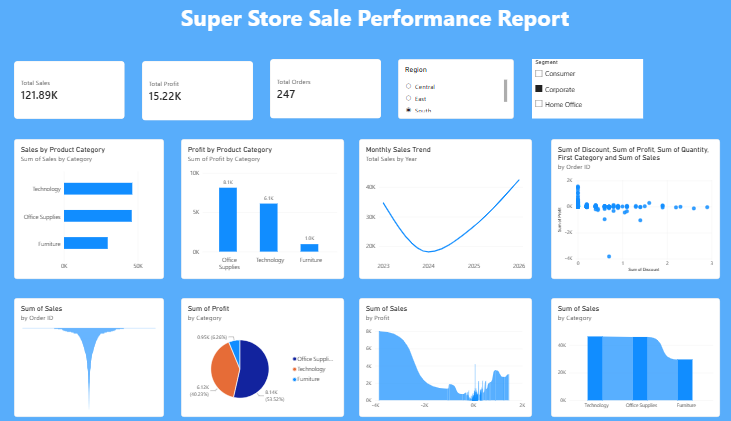

The dashboard page shown, as its layout file describes it:
{"tool":"powerbi","page":{"name":"Sales by Product Category","canvas":[1920,1080],"ordinal":0},"visuals":[{"type":"cardVisual","fields":{"Data":["Orders.Total Sales"]},"box":[0,183.9,279.7,146.1],"z":0},{"type":"cardVisual","fields":{"Data":["Orders.Total Profit"]},"box":[315,183.9,280,150],"z":1},{"type":"cardVisual","fields":{"Data":["Orders.Total Orders"]},"box":[637.5,183.9,280,150],"z":2},{"type":"clusteredBarChart","title":"Sales by Product Category","fields":{"Category":["Orders.Category"],"Y":["Sum(Orders.Sales)"]},"box":[0,390.6,378,352.8],"z":3},{"type":"textbox","box":[594.6,5,758.4,136.1],"z":4},{"type":"clusteredColumnChart","title":"Profit by Product Category","fields":{"Category":["Orders.Category"],"Y":["Sum(Orders.Profit)"]},"box":[456.1,390.6,410.7,352.8],"z":5},{"type":"lineChart","title":"Monthly Sales Trend","fields":{"Category":["Orders.Order Date.Variation.Date Hierarchy.Year","Orders.Order Date.Variation.Date Hierarchy.Quarter","Orders.Order Date.Variation.Date Hierarchy.Month","Orders.Order Date.Variation.Date Hierarchy.Day"],"Y":["Orders.Total Sales"]},"box":[939.8,390.6,435.9,352.8],"z":6},{"type":"listSlicer","fields":{"Values":["Orders.Region"]},"box":[960,183.9,292.3,151.2],"z":7},{"type":"slicer","fields":{"Values":["Orders.Segment"]},"box":[1295.1,183.9,280,150],"z":8},{"type":"scatterChart","fields":{"Category":["Orders.Order ID"],"X":["Sum(Orders.Discount)"],"Y":["Sum(Orders.Profit)"]},"box":[1436.2,390.6,425.8,352.8],"z":9},{"type":"cardVisual","fields":{"Data":["Orders.Profit Margin"]},"box":[1620.2,181.4,280,150],"z":10}]}

Visuals, with their boxes in screenshot pixels (x1, y1, x2, y2), scaled from the page's 1920x1080 canvas onto the 731x421 screenshot:
cardVisual - Orders.Total Sales: [0,72,106,129]
cardVisual - Orders.Total Profit: [120,72,227,130]
cardVisual - Orders.Total Orders: [243,72,349,130]
"Sales by Product Category" clusteredBarChart: [0,152,144,290]
textbox: [226,2,515,55]
"Profit by Product Category" clusteredColumnChart: [174,152,330,290]
"Monthly Sales Trend" lineChart: [358,152,524,290]
listSlicer - Orders.Region: [366,72,477,131]
slicer - Orders.Segment: [493,72,600,130]
scatterChart - Orders.Order ID x Sum(Orders.Discount): [547,152,709,290]
cardVisual - Orders.Profit Margin: [617,71,723,129]
